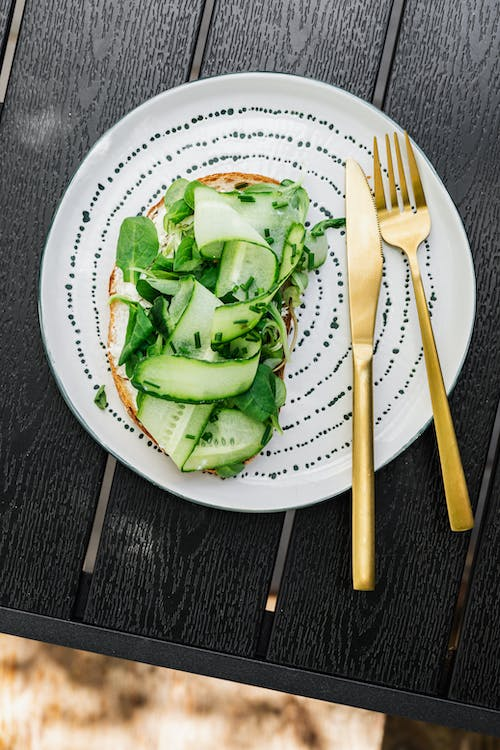knife: (343, 155, 384, 593)
